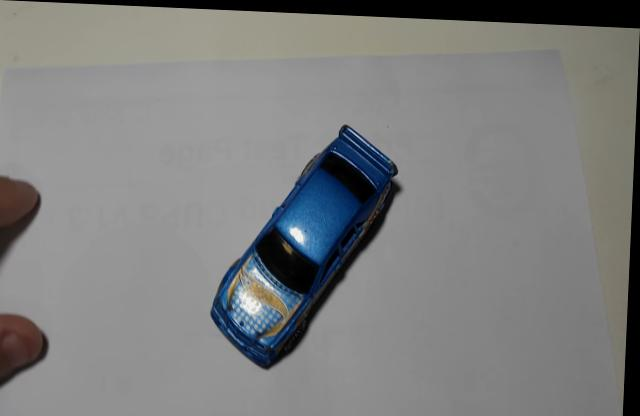04_MERZEDES: (212, 122, 403, 368)
